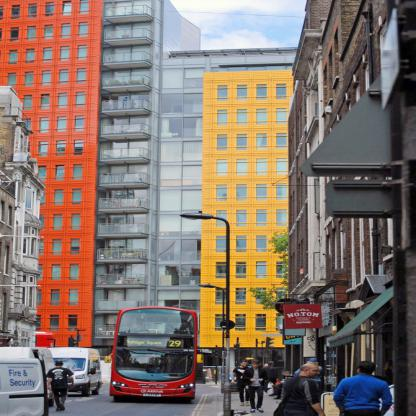Bus: (109, 307, 200, 400), (48, 345, 102, 398)
